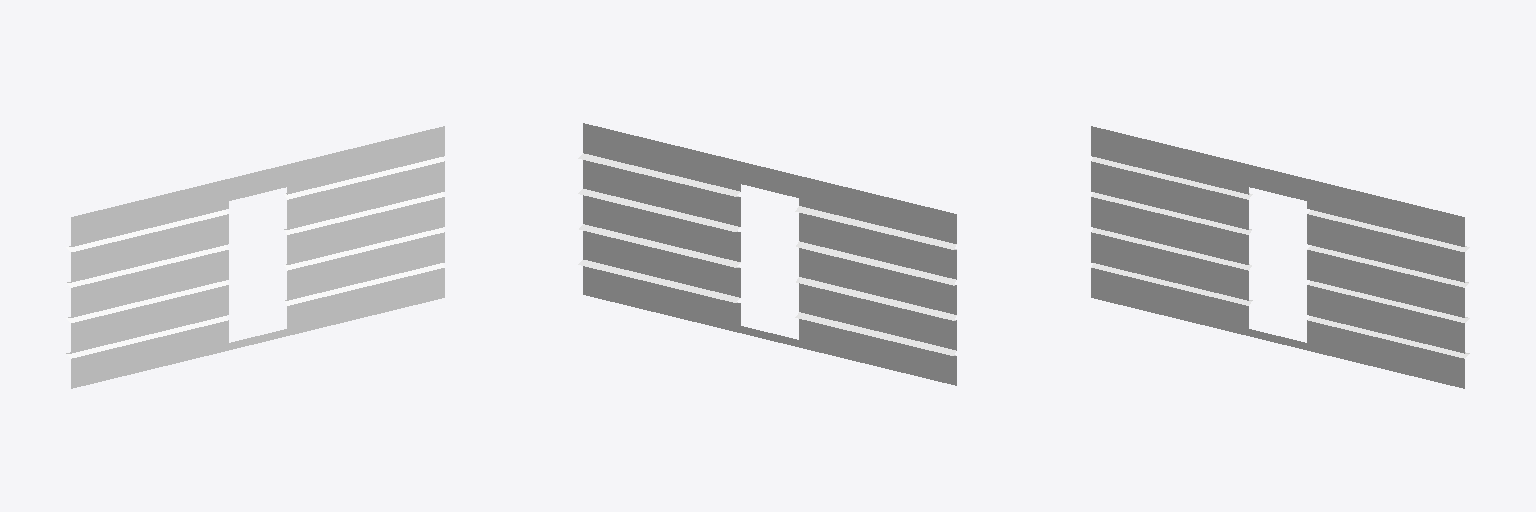
3 views of the same model, side by side, from view 1: azimuth 30°, elevation 25°; view 2: azimuth 150°, elevation 25°; view 3: azimuth 330°, elevation 25° (orthographic).
Visible parts, largest first — view 1: base 41 (1); view 2: base 41 (1); view 3: base 41 (1).
Boxes of the visible parts, <box> form: base 41 (1): <box>66,126,444,388</box>; base 41 (1): <box>578,123,956,385</box>; base 41 (1): <box>1091,126,1469,388</box>.
Bounding box in the file's own units: 5.75 × 2.51 × 0.1076.